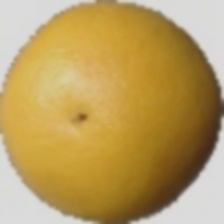grapes: (25, 50, 173, 213)
